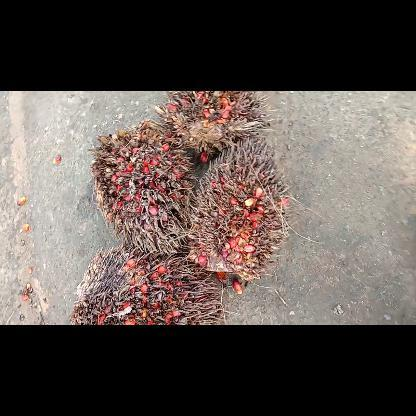Terlalu masak: (183, 128, 294, 292), (86, 118, 204, 260), (63, 242, 228, 324), (148, 90, 274, 168)
